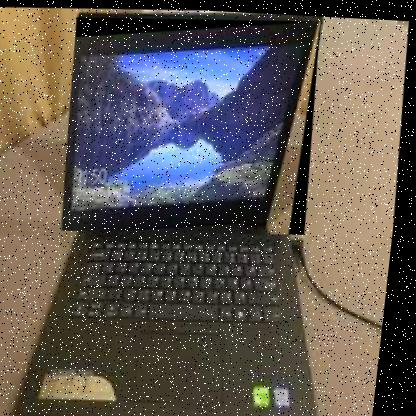Normal: (57, 8, 328, 241)
